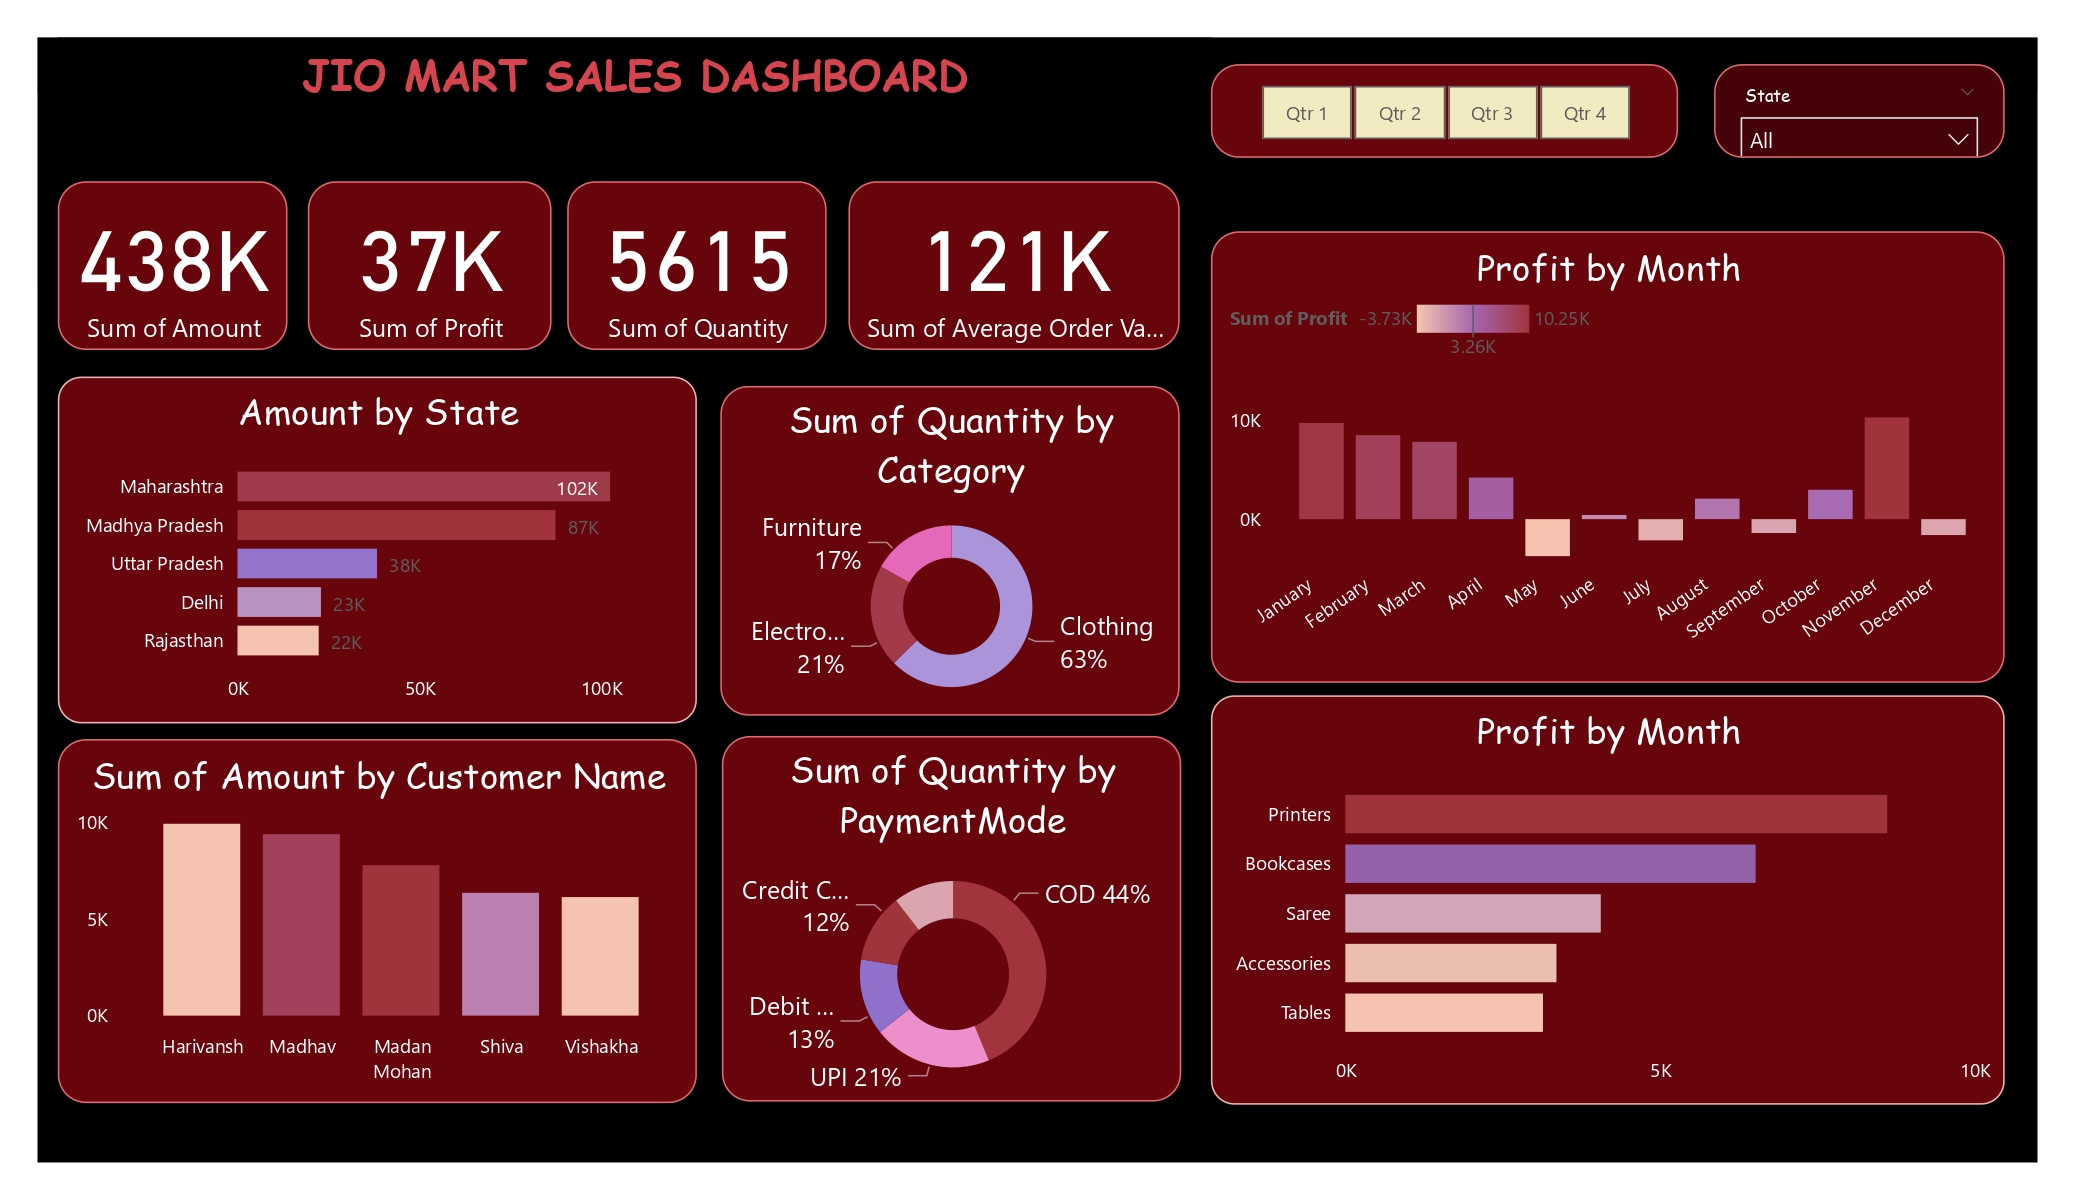

The dashboard page shown, as its layout file describes it:
{"tool":"powerbi","page":{"name":"Page 1","canvas":[1280,720],"ordinal":0},"visuals":[{"type":"textbox","box":[13.4,0,738.1,92.3],"z":0},{"type":"columnChart","title":"Profit by Month","fields":{"Category":["Orders.Order Date.Variation.Date Hierarchy.Month"],"Y":["Details.Profit"]},"box":[751,124,508,289],"z":1000},{"type":"donutChart","fields":{"Category":["Details.Category"],"Y":["Details.Quantity"]},"box":[436.5,222.5,294.8,211.2],"z":3000},{"type":"card","fields":{"Values":["Details.Amount"]},"box":[12.8,92.1,147.4,107.7],"z":4000},{"type":"clusteredBarChart","title":"Profit by Month","fields":{"Y":["Details.Profit"],"Category":["Details.Sub-Category"]},"box":[751.2,420.9,507.4,262.2],"z":4001},{"type":"card","fields":{"Values":["Details.Profit"]},"box":[172.8,92.3,156,107.4],"z":4002},{"type":"card","fields":{"Values":["Details.Quantity"]},"box":[338.9,92.3,166.1,107.4],"z":4003},{"type":"donutChart","fields":{"Category":["Details.PaymentMode"],"Y":["Details.Quantity"]},"box":[438,447,294,234],"z":4004},{"type":"columnChart","title":"Sum of Amount by Customer Name","fields":{"Category":["Orders.CustomerName"],"Y":["Details.Amount"]},"box":[12.8,449.3,409.6,232.4],"z":4005},{"type":"clusteredBarChart","title":"Amount by State","fields":{"Y":["Details.Amount"],"Category":["Orders.State"]},"box":[12.8,216.9,409.6,222.5],"z":4006},{"type":"card","fields":{"Values":["Details.Average Order Value"]},"box":[518.7,92.1,212.6,107.7],"z":4007},{"type":"slicer","fields":{"Values":["Orders.Order Date.Variation.Date Hierarchy.Quarter"]},"box":[751.2,17,299.1,59.5],"z":4008},{"type":"slicer","fields":{"Values":["Orders.State"]},"box":[1072.9,17,185.7,59.5],"z":4009}]}

Visuals, with their boxes on the page's 1280x720 design canvas (x1, y1, x2, y2). These are canvas units, not pixel positions in the 2075x1200 screenshot, which may show the page scaled, cropped or inside an application window:
textbox: (left=13, top=0, right=752, bottom=92)
"Profit by Month" columnChart: (left=751, top=124, right=1259, bottom=413)
donutChart - Details.Category x Details.Quantity: (left=436, top=222, right=731, bottom=434)
card - Details.Amount: (left=13, top=92, right=160, bottom=200)
"Profit by Month" clusteredBarChart: (left=751, top=421, right=1259, bottom=683)
card - Details.Profit: (left=173, top=92, right=329, bottom=200)
card - Details.Quantity: (left=339, top=92, right=505, bottom=200)
donutChart - Details.PaymentMode x Details.Quantity: (left=438, top=447, right=732, bottom=681)
"Sum of Amount by Customer Name" columnChart: (left=13, top=449, right=422, bottom=682)
"Amount by State" clusteredBarChart: (left=13, top=217, right=422, bottom=439)
card - Details.Average Order Value: (left=519, top=92, right=731, bottom=200)
slicer - Orders.Order Date.Variation.Date Hierarchy.Quarter: (left=751, top=17, right=1050, bottom=76)
slicer - Orders.State: (left=1073, top=17, right=1259, bottom=76)
